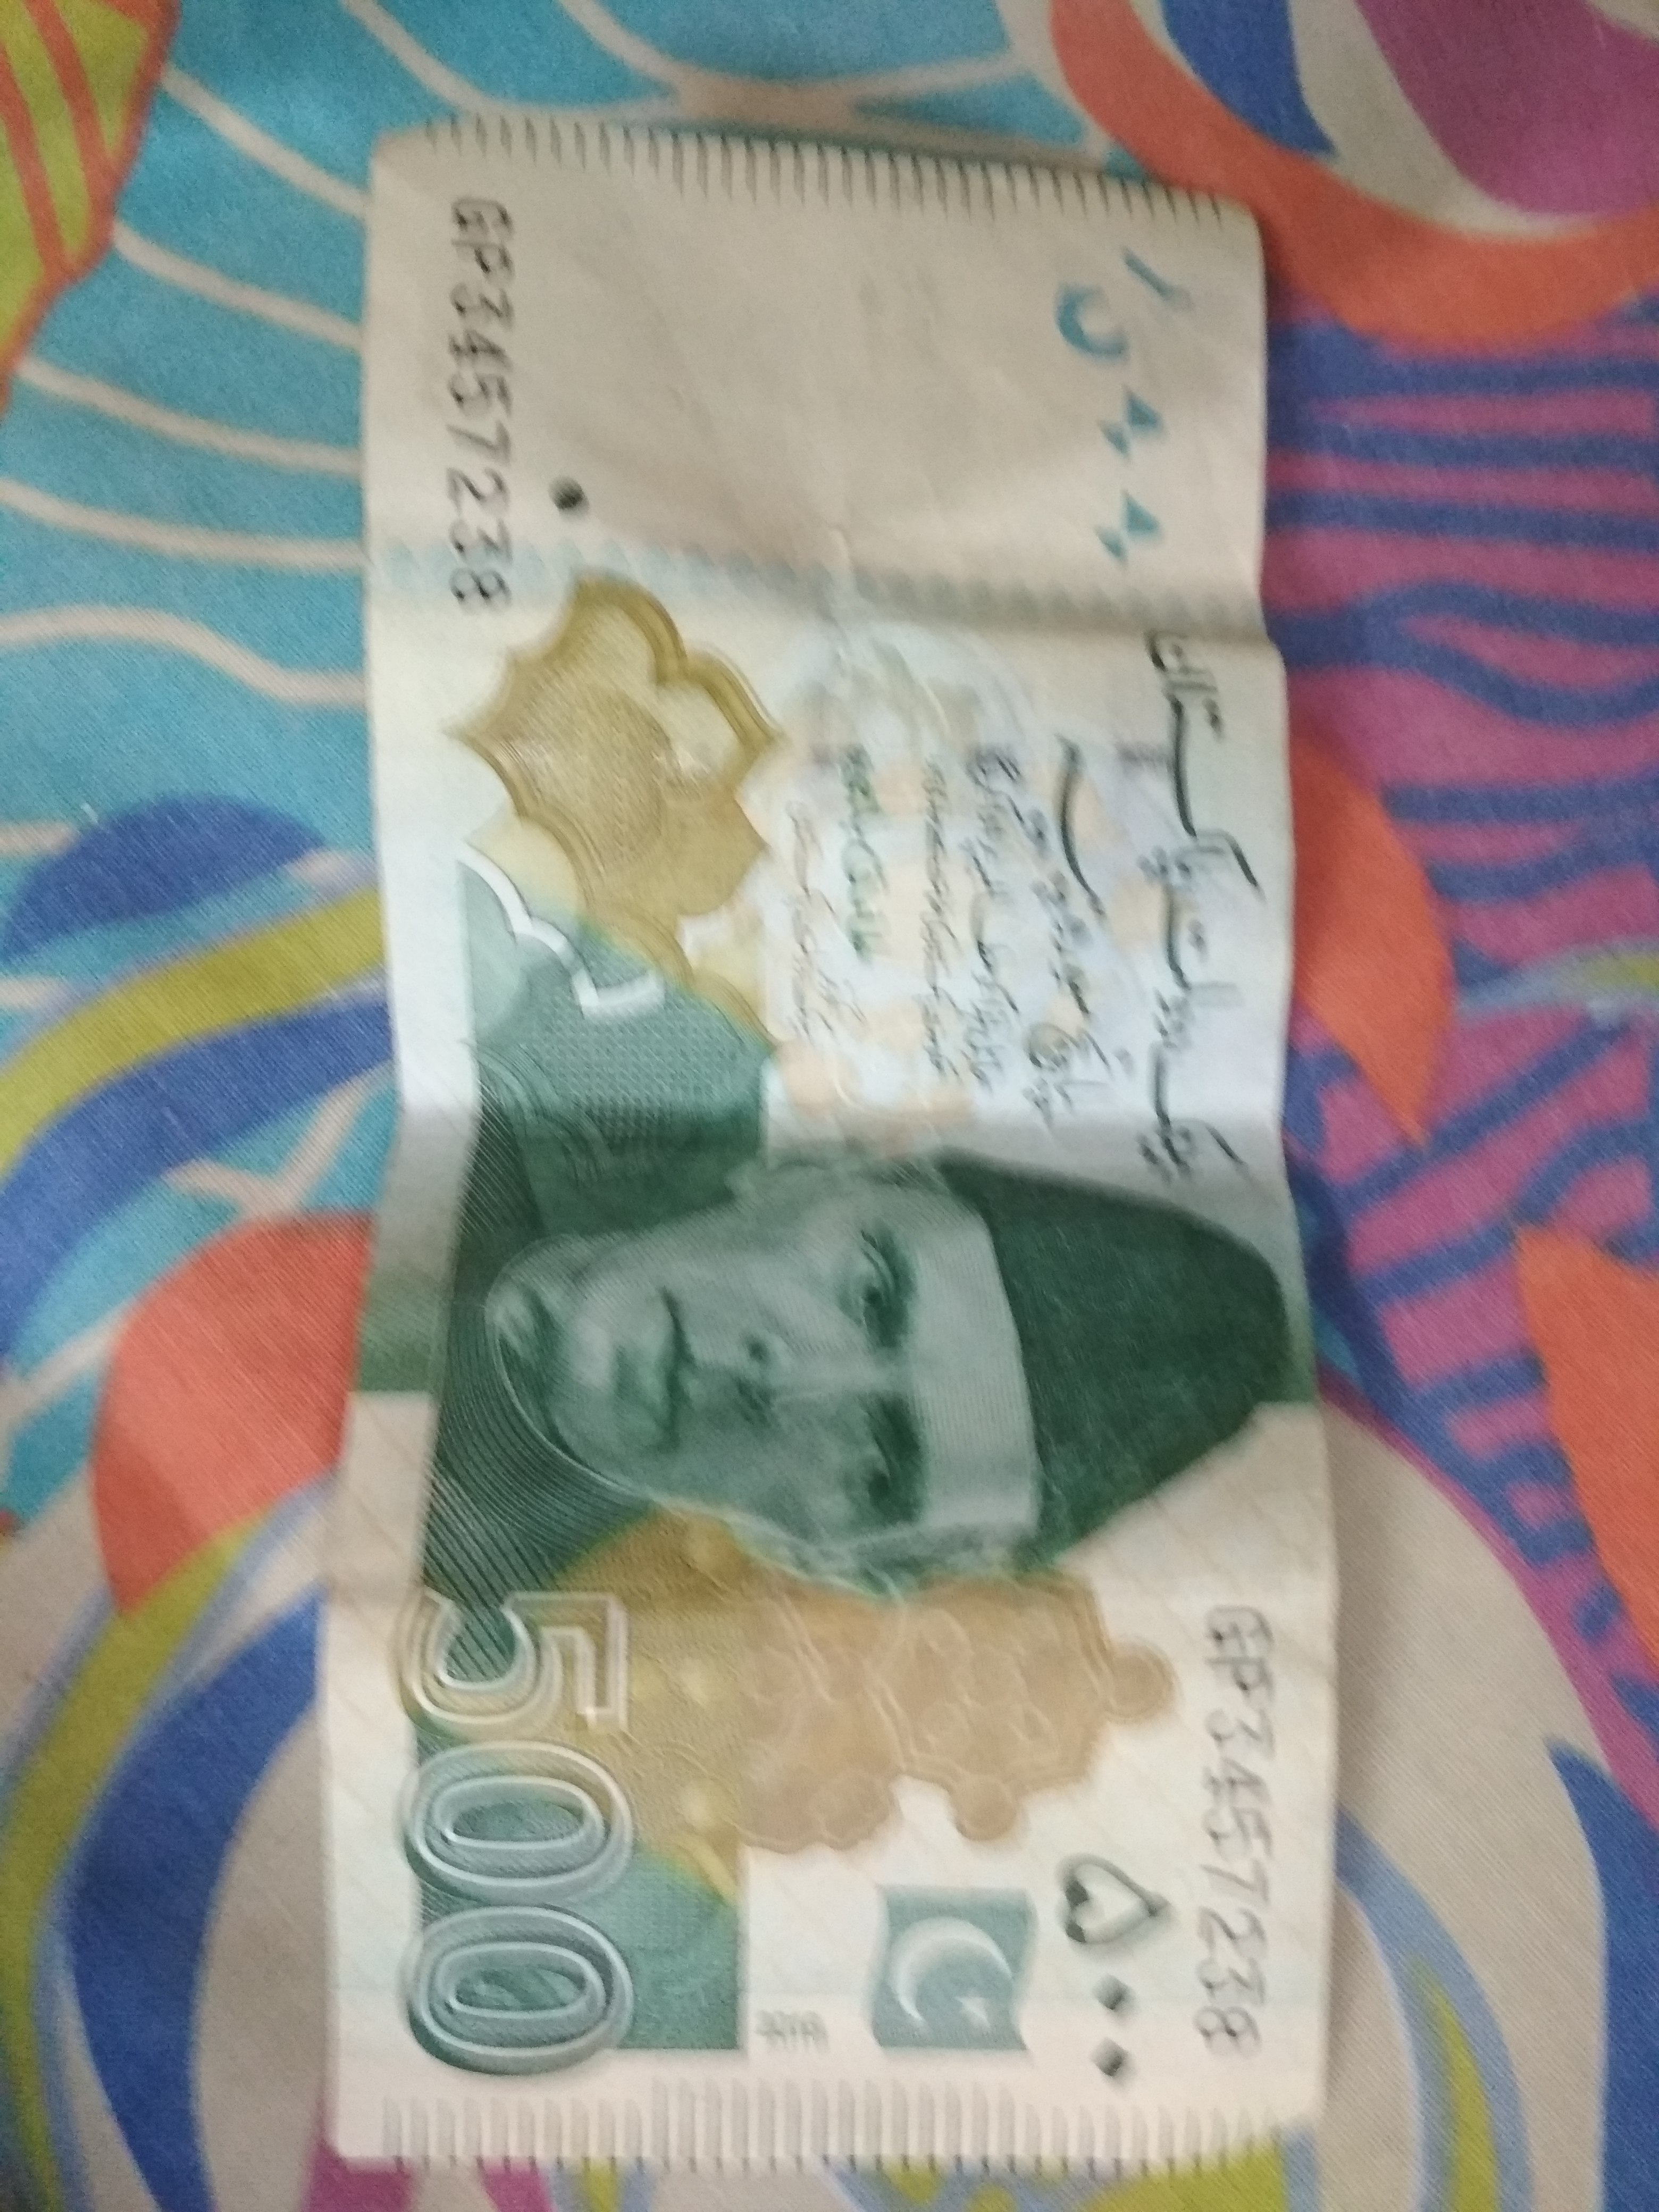500 rupee: (284, 85, 1323, 2184)
